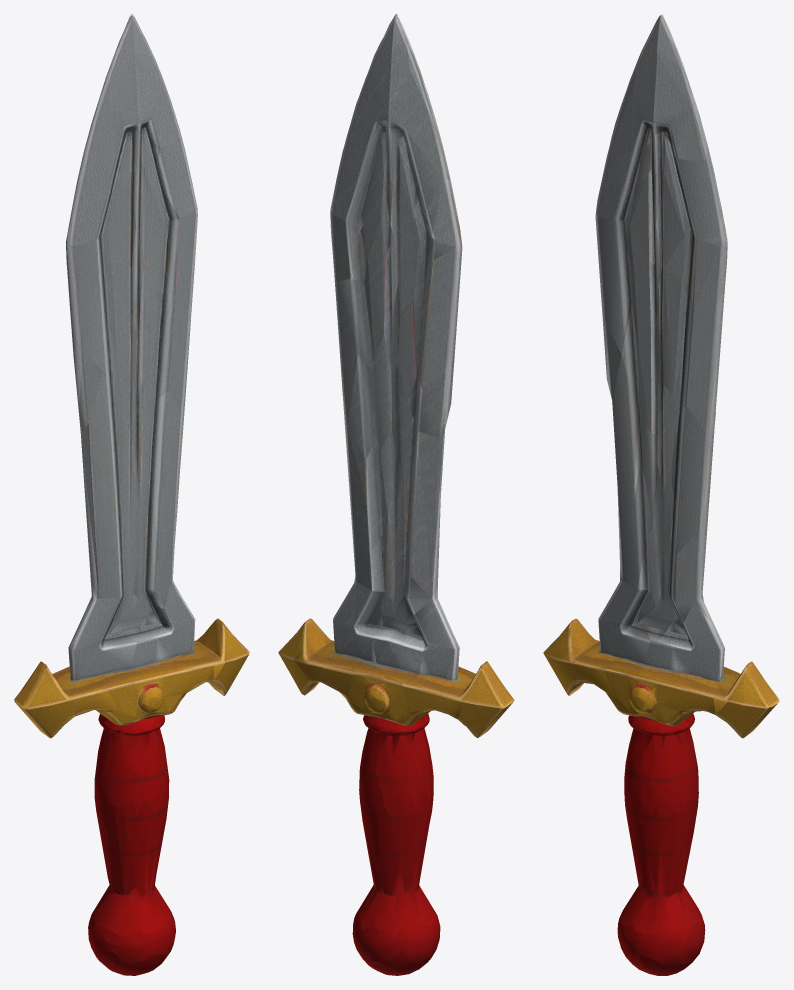
File: knife.glb
3 views of the same model, side by side, from view 1: azimuth 30°, elevation 25°; view 2: azimuth 150°, elevation 25°; view 3: azimuth 330°, elevation 25° (orthographic).
Visible parts, largest first — view 1: Mesh_0; view 2: Mesh_0; view 3: Mesh_0.
Part boxes in pixels (<box>): Mesh_0: <box>14,14,249,975</box>; Mesh_0: <box>278,14,514,975</box>; Mesh_0: <box>543,14,779,975</box>.
Size of the model in its own units: 0.472 by 1.9 by 0.1677.
Materials: 1 (1 with a texture image).
